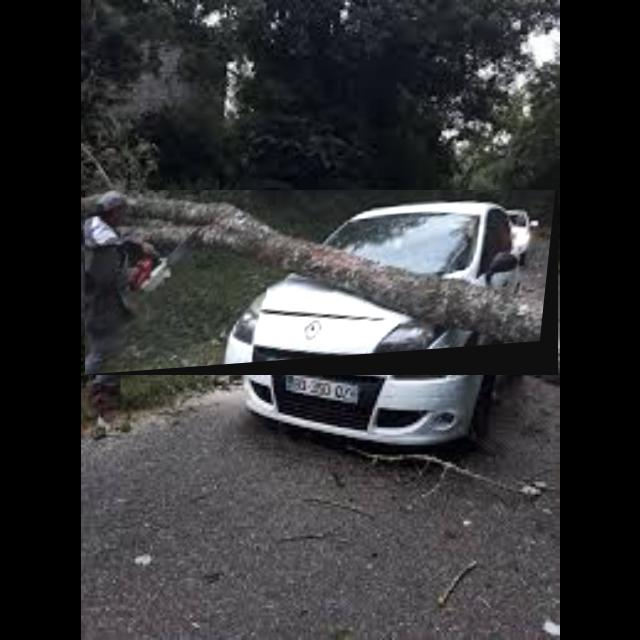Fallen Tree: (85, 190, 559, 376)
